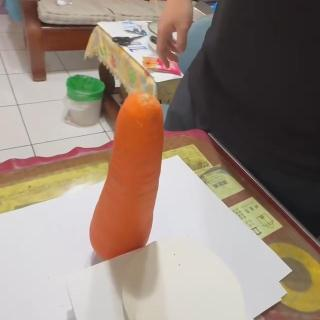carrot: (89, 91, 165, 255)
